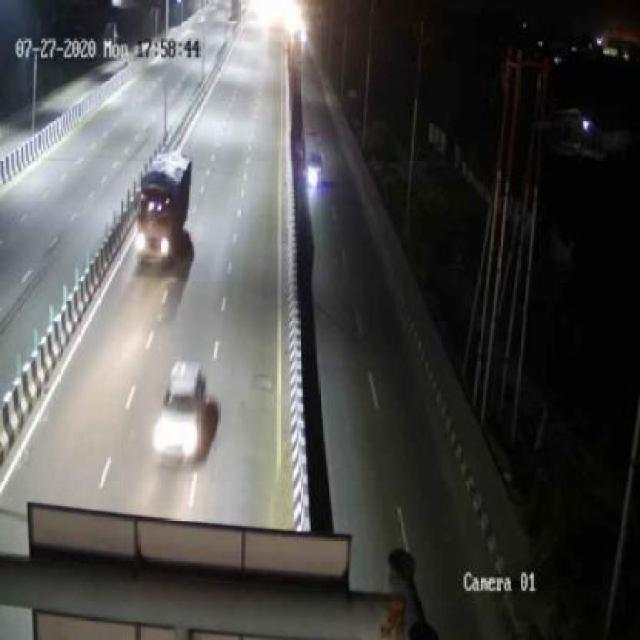car: (153, 359, 210, 463)
